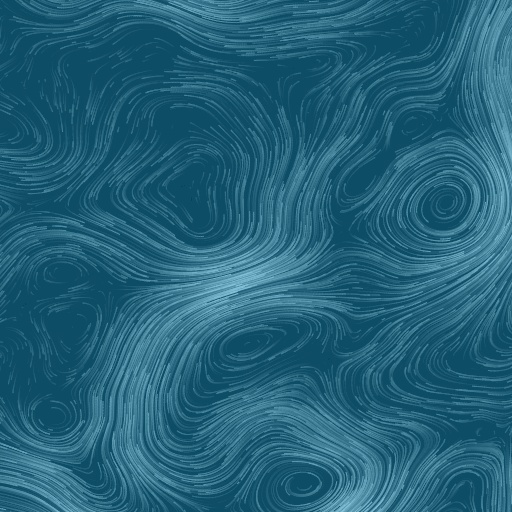eddy: (132, 142, 241, 242), (391, 164, 487, 253), (210, 314, 318, 373), (36, 298, 104, 381), (267, 462, 338, 511), (26, 392, 83, 439), (37, 256, 88, 290)
